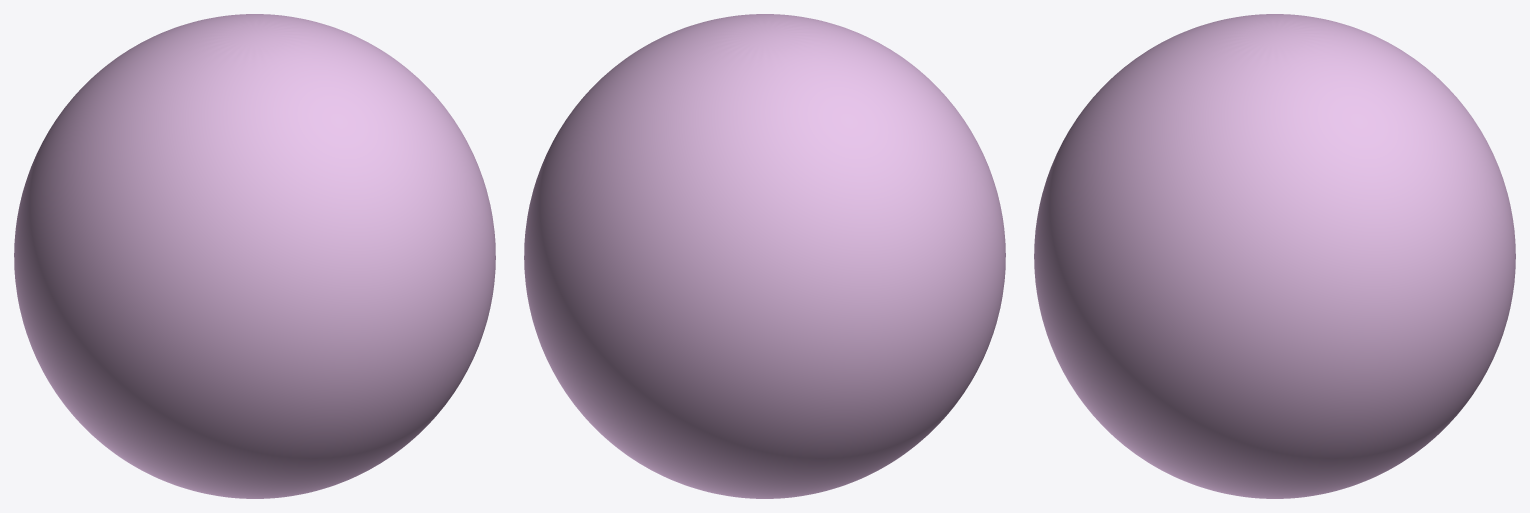
The model's file is Round_Globe_Not_Bubble_00.fbx.
3 views of the same model, side by side, from view 1: azimuth 30°, elevation 25°; view 2: azimuth 150°, elevation 25°; view 3: azimuth 270°, elevation 25° (orthographic).
Parts seen in each view (by area): view 1: Sphere; view 2: Sphere; view 3: Sphere.
Boxes of the visible parts, x1,y1,x2,y2 form: Sphere: [14, 14, 495, 498]; Sphere: [524, 14, 1005, 498]; Sphere: [1034, 14, 1515, 498].
Bounding box in the file's own units: 247 × 250 × 247.
